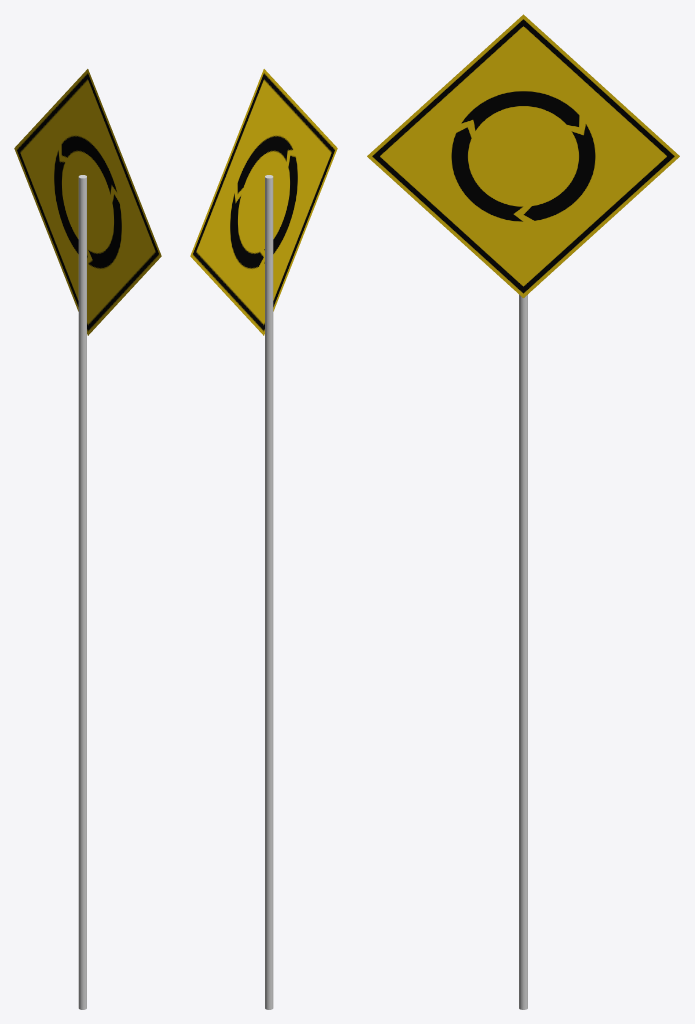
Rendered from roundaboutfbx.fbx.
3 renders of one model, left to right at view 1: azimuth 30°, elevation 25°; view 2: azimuth 150°, elevation 25°; view 3: azimuth 270°, elevation 25°, orthographic. The views are drawn at different scales.
Visible parts, largest first — view 1: roundabout, Cylinder; view 2: roundabout, Cylinder; view 3: roundabout, Cylinder.
Boxes of the visible parts, <box> form: roundabout: <box>14,69,161,335</box>; Cylinder: <box>78,175,86,1009</box>; roundabout: <box>190,69,337,335</box>; Cylinder: <box>265,175,273,1009</box>; roundabout: <box>367,14,679,297</box>; Cylinder: <box>519,294,527,1009</box>.
Bounding box in the file's own units: 3.43 × 350 × 100.
